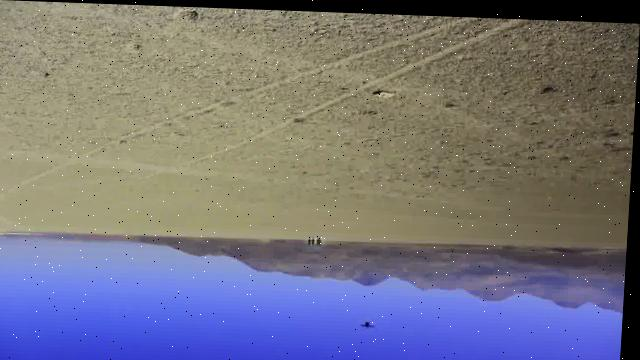drone: (361, 316, 380, 330)
